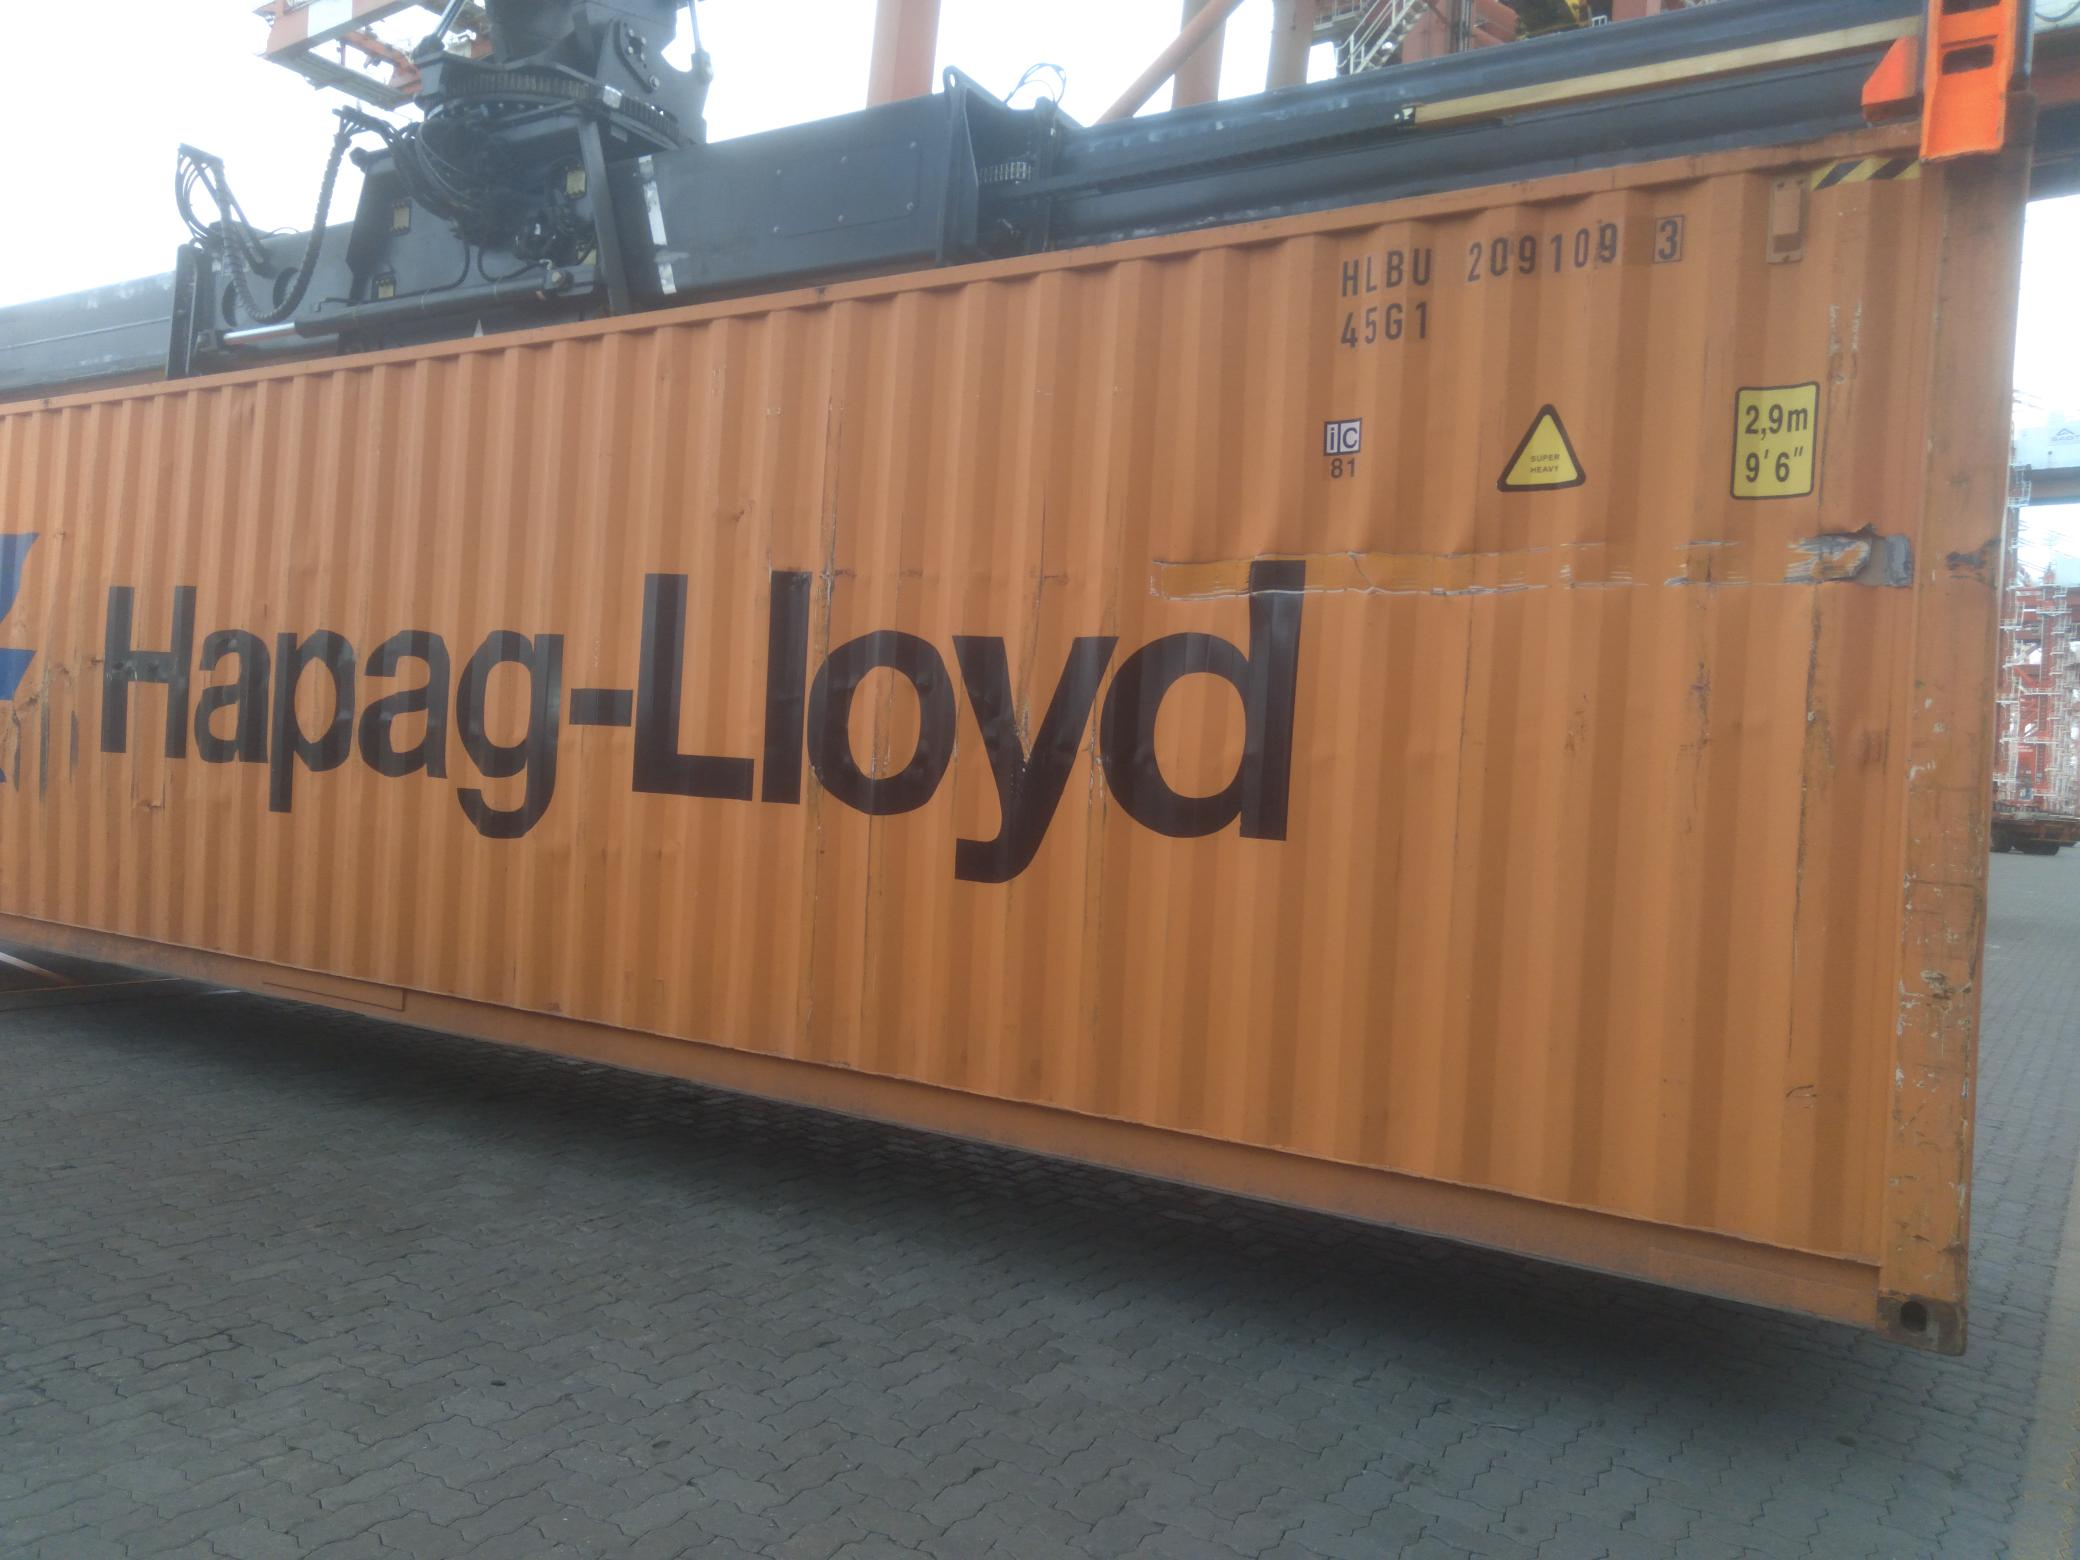moderate: (1137, 519, 1934, 611), (1299, 742, 1346, 772), (1397, 741, 1435, 777)
